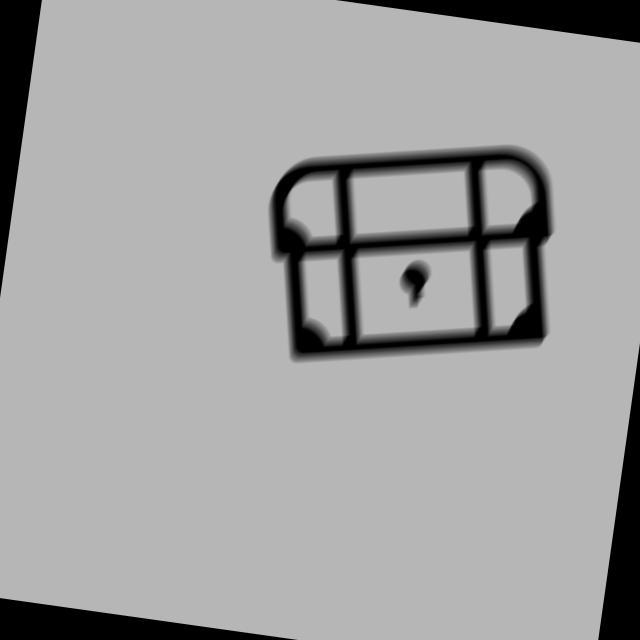treasure_box: (241, 105, 586, 408)
